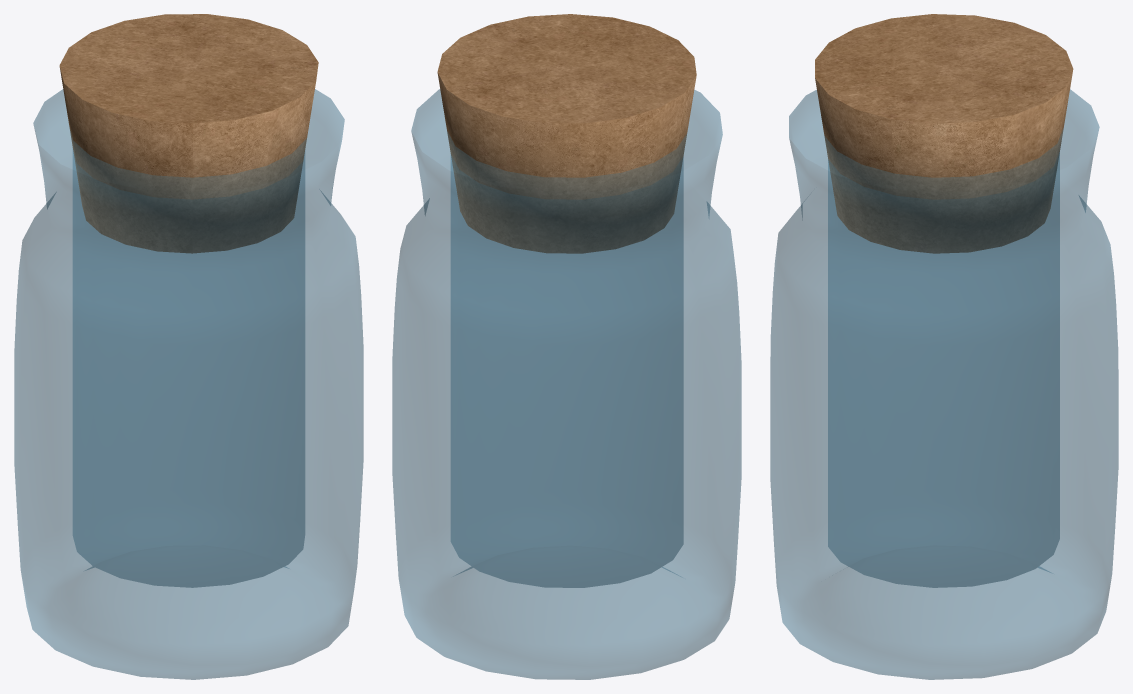
Rendered from glassbottle.glb.
3 renders of one model, left to right at view 1: azimuth 30°, elevation 25°; view 2: azimuth 150°, elevation 25°; view 3: azimuth 270°, elevation 25°, orthographic.
Visible parts, largest first — view 1: Cylinder, Cylinder.001; view 2: Cylinder, Cylinder.001; view 3: Cylinder, Cylinder.001.
Boxes of the visible parts, x1,y1,x2,y2 form: Cylinder: (14,89,363,679); Cylinder.001: (59,14,318,253); Cylinder: (392,89,741,679); Cylinder.001: (437,14,696,253); Cylinder: (770,89,1118,679); Cylinder.001: (815,14,1073,253).
Bounding box in the file's own units: 0.2662 × 0.4561 × 0.2653.
Materials: 2 (2 with a texture image).
